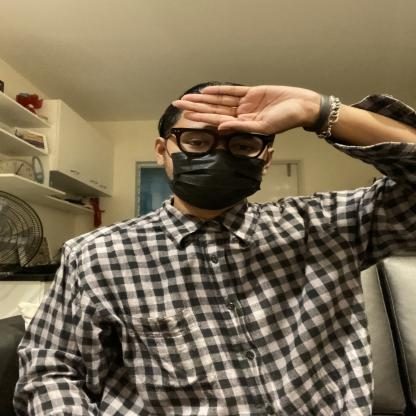Sick: (78, 58, 351, 186)
